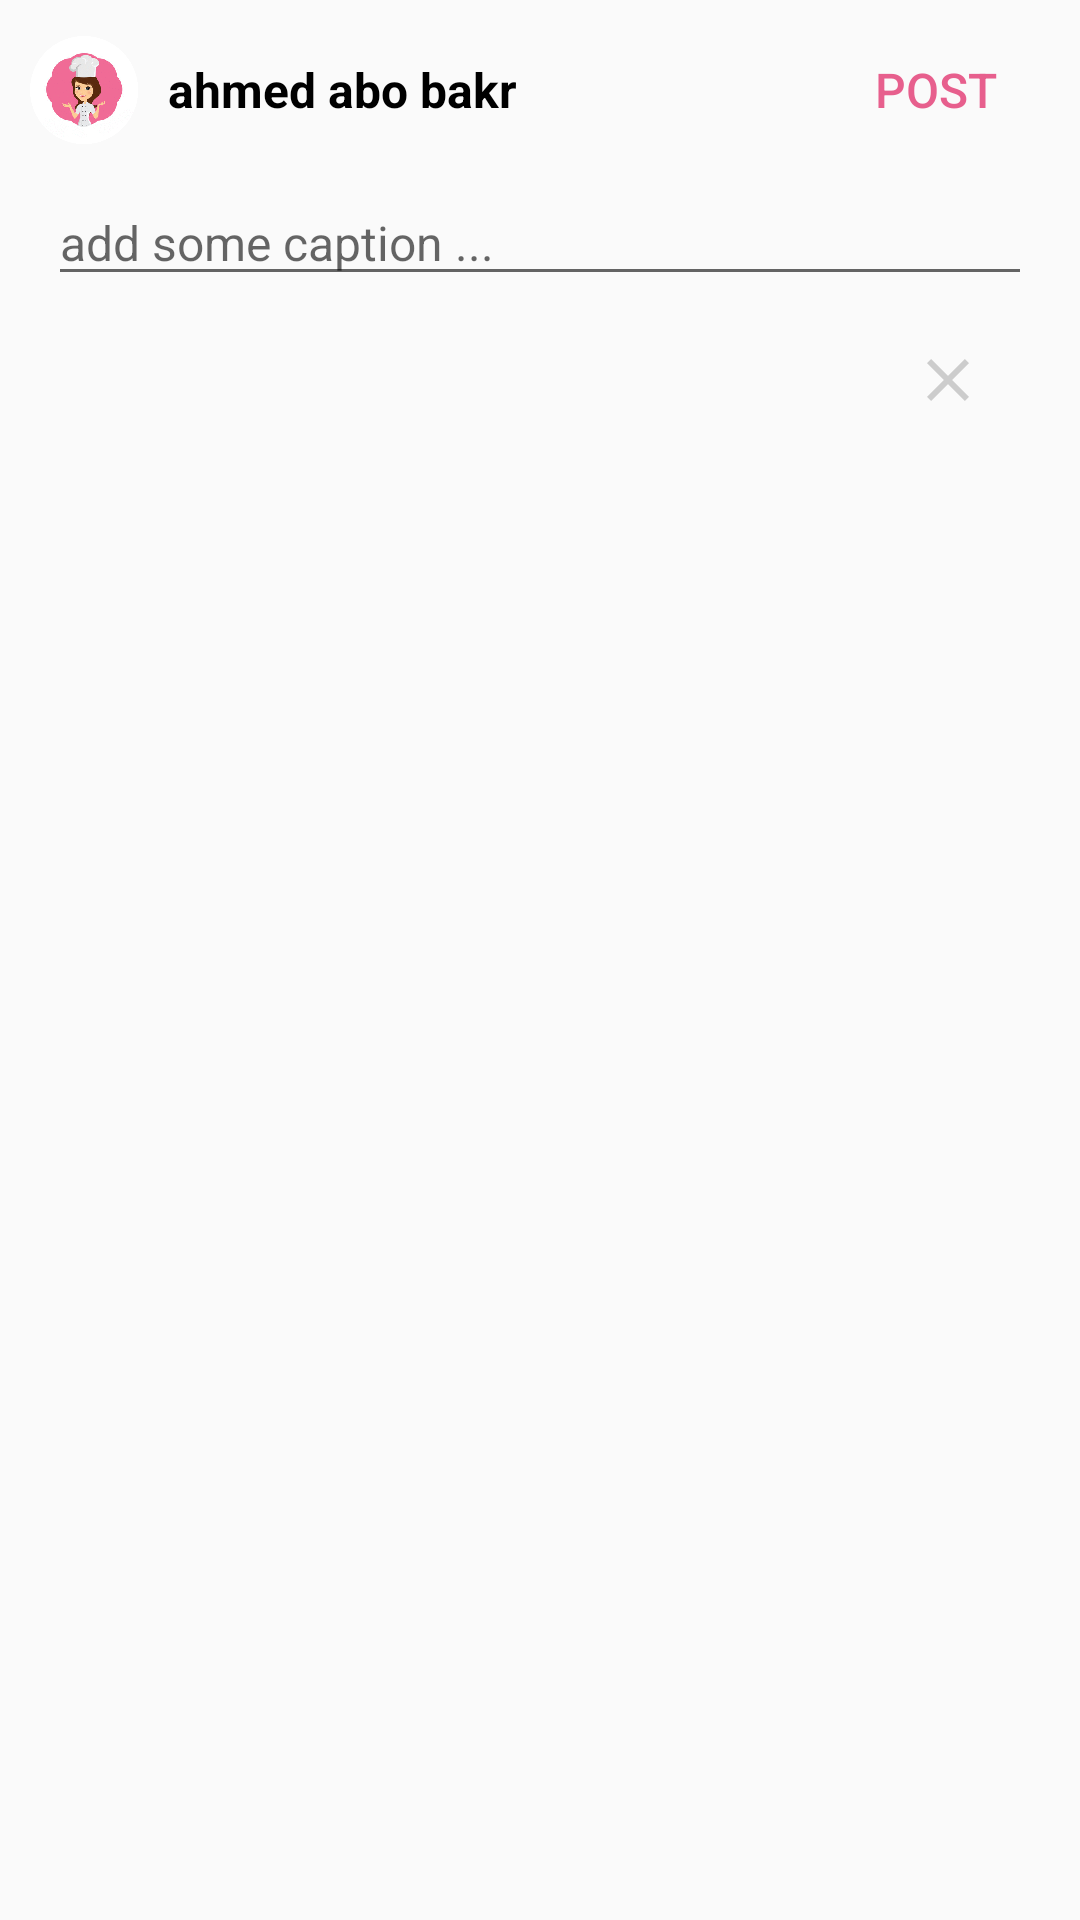

Icon bounding boxes for this 1080x1920 phone screenshot, format (left=x1, top=y1, right=x2, bottom=y2):
close: (left=927, top=359, right=969, bottom=401)
